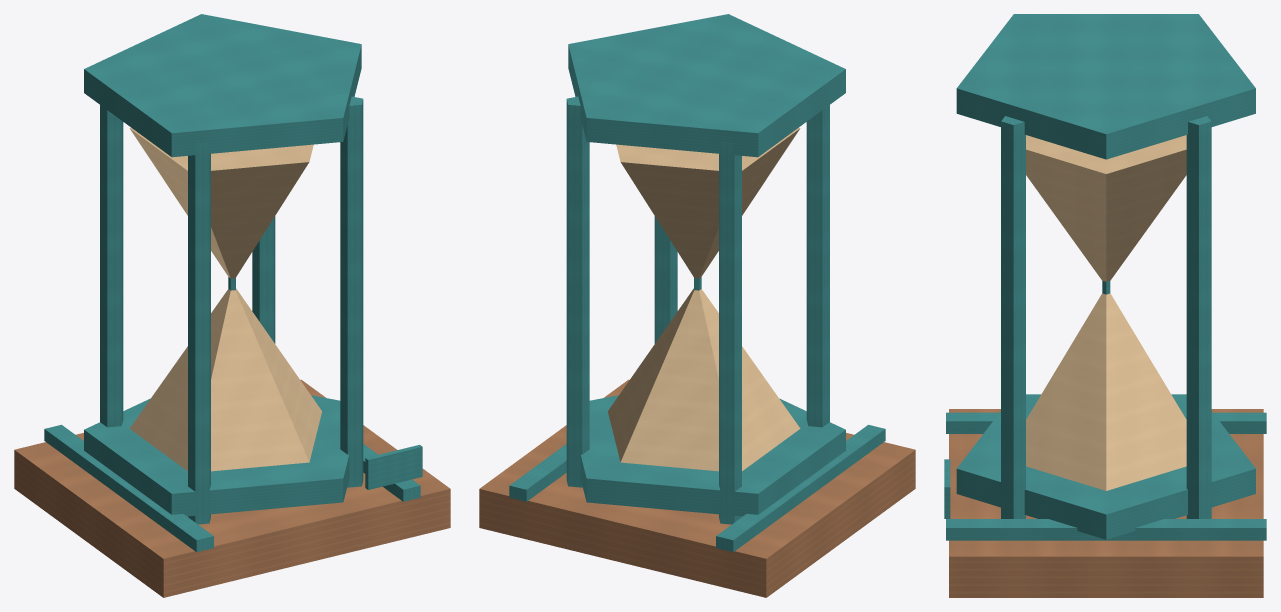
The model's file is atlas100-s091-a01.lod1.glb.
The picture shows the model from 3 angles, left to right: view 1: azimuth 30°, elevation 25°; view 2: azimuth 150°, elevation 25°; view 3: azimuth 270°, elevation 25°; orthographic projection. The views are drawn at different scales.
Parts seen in each view (by area): view 1: atlas100-s091-a01:part-004, atlas100-s091-a01:part-000, atlas100-s091-a01:part-013, atlas100-s091-a01:part-003, atlas100-s091-a01:part-014, atlas100-s091-a01:part-005, atlas100-s091-a01:part-007, atlas100-s091-a01:part-009, atlas100-s091-a01:part-001, atlas100-s091-a01:part-011, atlas100-s091-a01:part-016, atlas100-s091-a01:part-002; view 2: atlas100-s091-a01:part-004, atlas100-s091-a01:part-000, atlas100-s091-a01:part-013, atlas100-s091-a01:part-003, atlas100-s091-a01:part-014, atlas100-s091-a01:part-011, atlas100-s091-a01:part-009, atlas100-s091-a01:part-007, atlas100-s091-a01:part-001, atlas100-s091-a01:part-005, atlas100-s091-a01:part-002; view 3: atlas100-s091-a01:part-004, atlas100-s091-a01:part-000, atlas100-s091-a01:part-013, atlas100-s091-a01:part-003, atlas100-s091-a01:part-014, atlas100-s091-a01:part-011, atlas100-s091-a01:part-005, atlas100-s091-a01:part-002, atlas100-s091-a01:part-001.
Boxes of the visible parts, x1,y1,x2,y2 form: atlas100-s091-a01:part-004: (84,14,361,157); atlas100-s091-a01:part-000: (14,379,450,597); atlas100-s091-a01:part-013: (129,288,321,471); atlas100-s091-a01:part-003: (84,395,349,516); atlas100-s091-a01:part-014: (129,127,313,278); atlas100-s091-a01:part-005: (340,96,363,487); atlas100-s091-a01:part-007: (188,142,210,524); atlas100-s091-a01:part-009: (100,105,123,427); atlas100-s091-a01:part-001: (44,424,213,552); atlas100-s091-a01:part-011: (252,216,275,343); atlas100-s091-a01:part-016: (365,444,422,489); atlas100-s091-a01:part-002: (363,444,420,501); atlas100-s091-a01:part-004: (568,14,845,157); atlas100-s091-a01:part-000: (479,379,915,597); atlas100-s091-a01:part-013: (608,288,800,471); atlas100-s091-a01:part-003: (580,395,845,516); atlas100-s091-a01:part-014: (616,127,800,278); atlas100-s091-a01:part-011: (566,96,589,487); atlas100-s091-a01:part-009: (719,142,741,524); atlas100-s091-a01:part-007: (806,105,829,427); atlas100-s091-a01:part-001: (716,424,885,552); atlas100-s091-a01:part-005: (654,216,677,343); atlas100-s091-a01:part-002: (509,444,566,501); atlas100-s091-a01:part-004: (956,14,1255,159); atlas100-s091-a01:part-000: (949,409,1263,597); atlas100-s091-a01:part-013: (1026,293,1186,490); atlas100-s091-a01:part-003: (956,394,1255,539); atlas100-s091-a01:part-014: (1026,135,1186,281); atlas100-s091-a01:part-011: (1186,116,1211,518); atlas100-s091-a01:part-005: (1001,116,1025,518); atlas100-s091-a01:part-002: (946,519,1266,540); atlas100-s091-a01:part-001: (946,412,1266,433).
Size of the model in its own units: 2 by 2.88 by 1.85.
Materials: 3 (3 with a texture image).
